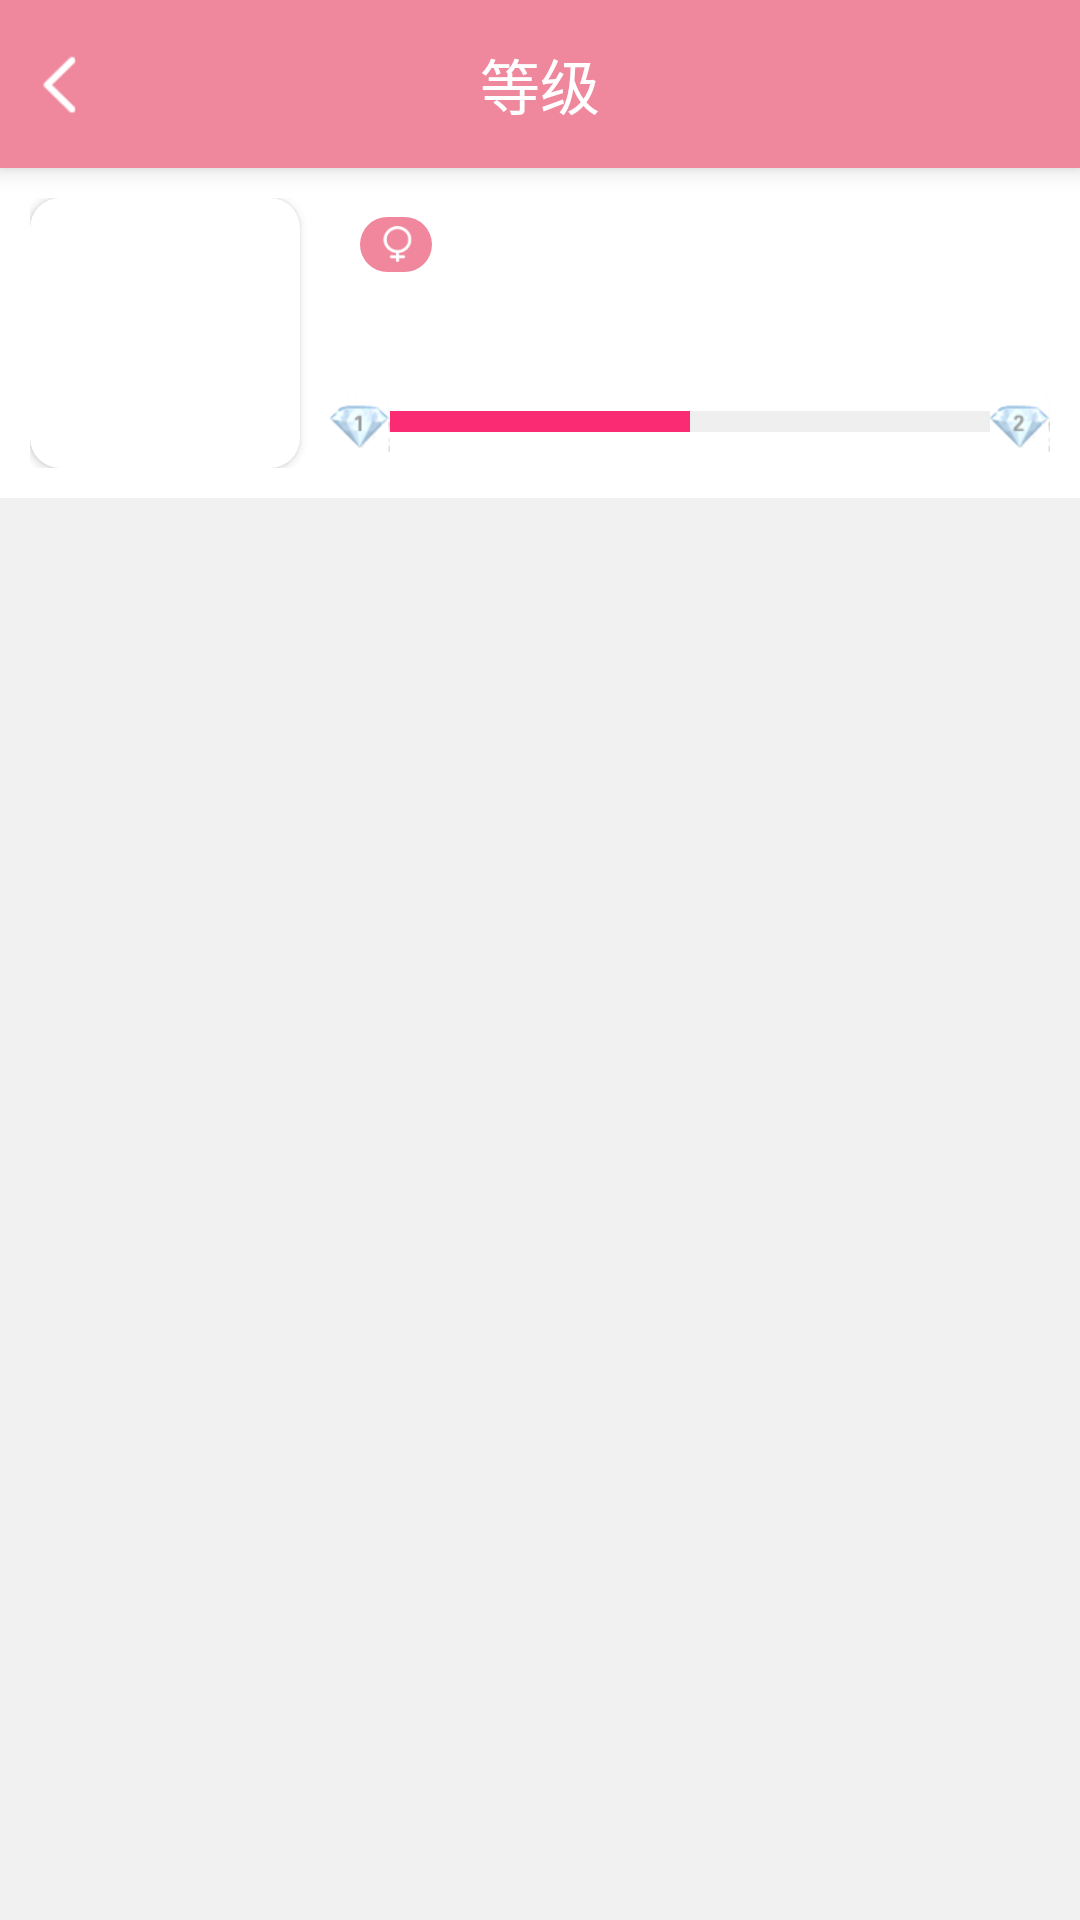

Icons on this 1080×1920 Android screen, each with its box as (x1, y1, x2, y2):
bainvxing: (383, 226, 412, 262)
